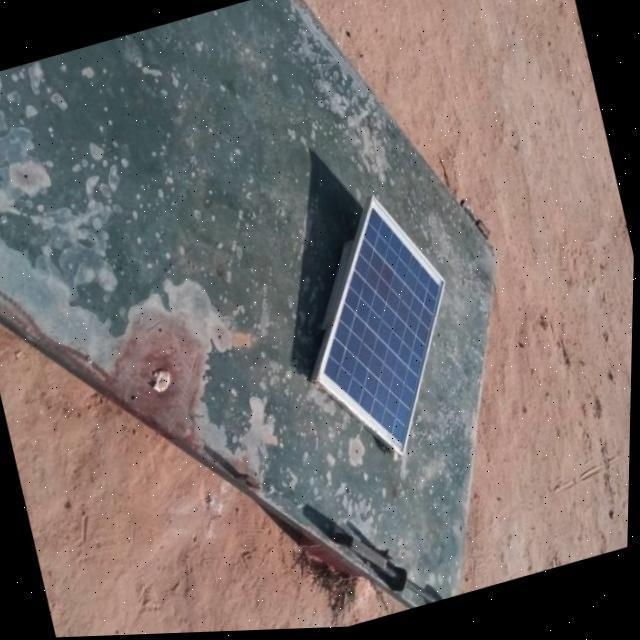Normal Solar Panel: (276, 181, 486, 477)
